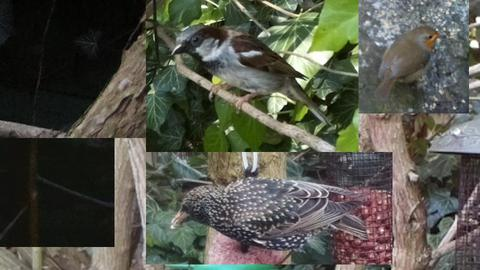robin: (374, 25, 444, 102)
sparrow: (171, 25, 334, 127)
starling: (171, 177, 368, 252)
